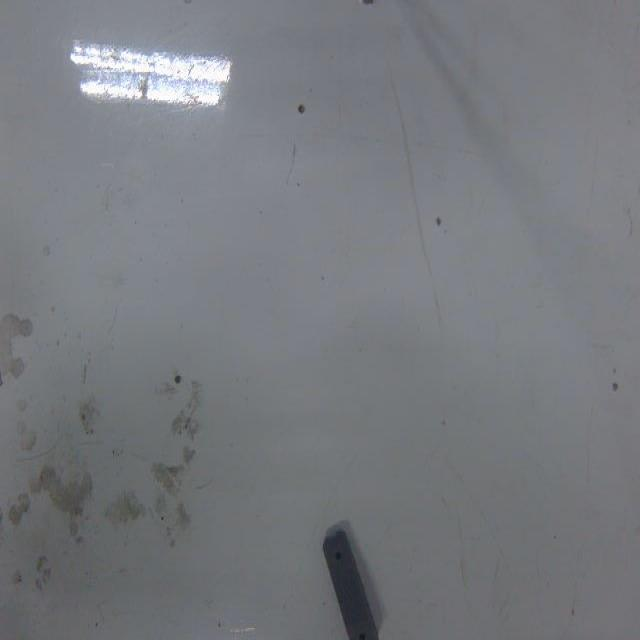grey: (322, 527, 382, 640)
head: (332, 546, 346, 560)
